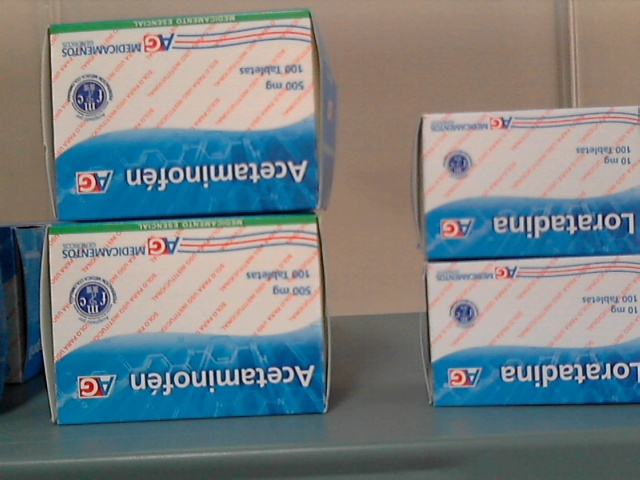AG: (56, 220, 325, 424), (55, 17, 314, 220), (428, 107, 640, 259), (431, 259, 640, 402)
